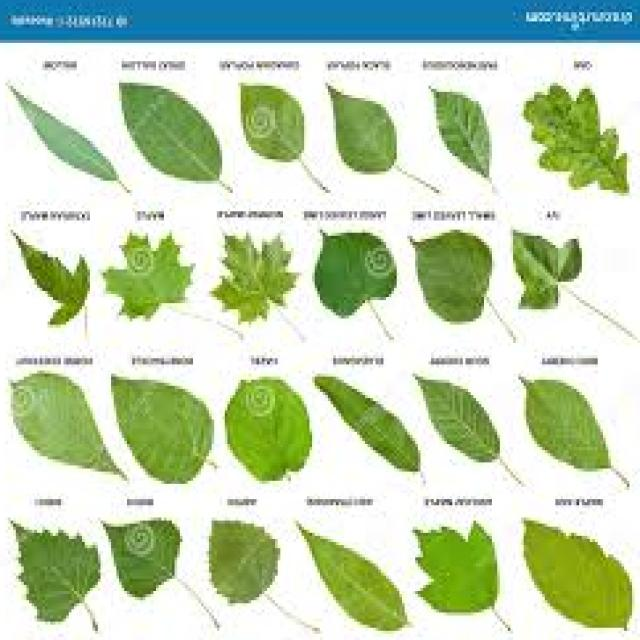leaves: (12, 374, 123, 476), (524, 86, 628, 194), (525, 522, 631, 627), (300, 526, 406, 631), (112, 379, 211, 484), (10, 88, 119, 180), (121, 85, 219, 181), (316, 379, 419, 470), (228, 380, 309, 481), (14, 525, 99, 620), (524, 382, 610, 471), (104, 235, 191, 319), (212, 236, 296, 323), (415, 233, 491, 322), (418, 379, 499, 462), (315, 234, 396, 317), (416, 523, 494, 608), (15, 235, 89, 324), (328, 88, 396, 174), (105, 521, 180, 597), (209, 522, 278, 604), (515, 233, 581, 308), (434, 92, 488, 178), (242, 86, 299, 159)
